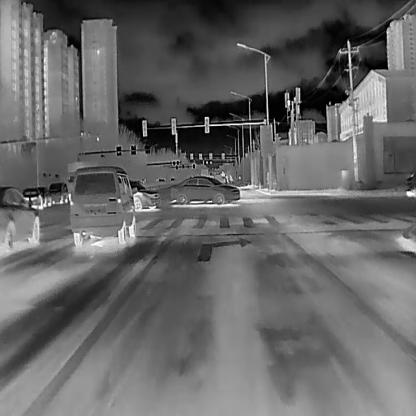car: (69, 165, 135, 246), (0, 184, 40, 252), (168, 175, 240, 204), (127, 178, 160, 210), (21, 186, 45, 209), (48, 182, 68, 204), (405, 166, 415, 195)
